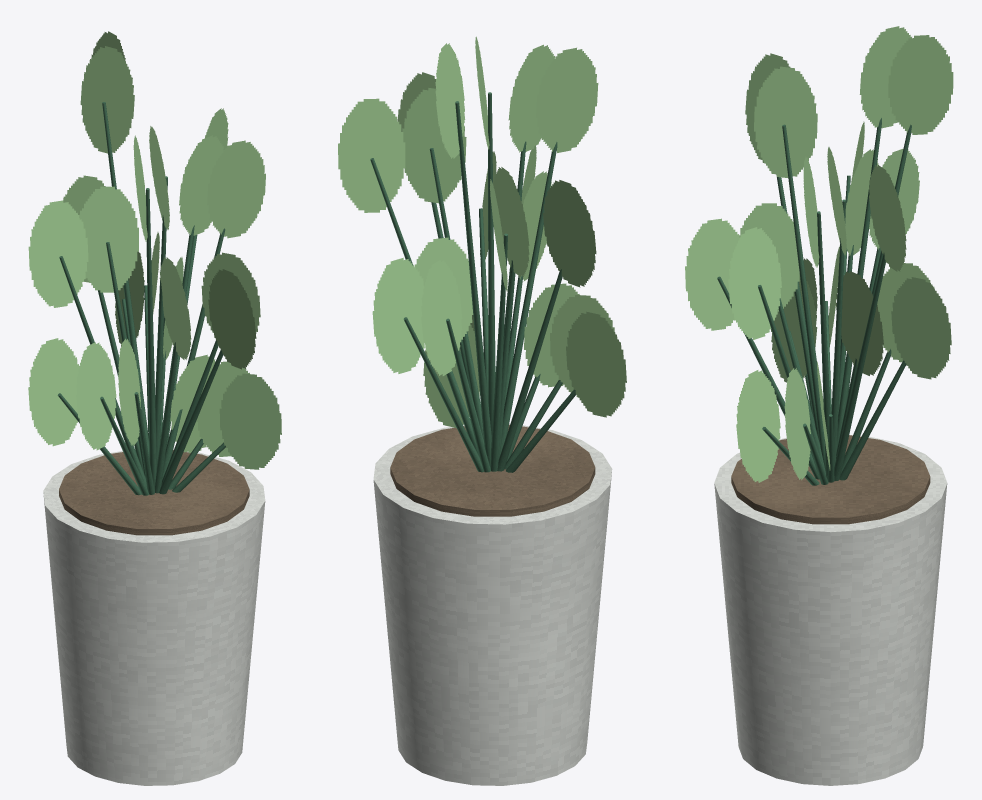
File: planter_tall01.glb
The picture shows the model from 3 angles, left to right: view 1: azimuth 30°, elevation 25°; view 2: azimuth 150°, elevation 25°; view 3: azimuth 270°, elevation 25°; orthographic projection. The views are drawn at different scales.
Visible parts, largest first — view 1: foliage, pot, stems, soil; view 2: pot, foliage, stems, soil; view 3: pot, foliage, stems, soil.
Part boxes in pixels (x1,y1,x2,y2): foliage: (28, 31, 281, 469); pot: (43, 449, 265, 785); stems: (57, 102, 225, 495); soil: (59, 450, 249, 535); pot: (373, 424, 612, 785); foliage: (338, 36, 626, 428); stems: (370, 92, 575, 472); soil: (390, 424, 595, 516); pot: (714, 435, 947, 785); foliage: (685, 26, 953, 482); stems: (717, 118, 911, 485); soil: (731, 435, 930, 524).
Size of the model in its own units: 0.6378 by 1.63 by 0.6118.
4 materials, 4 textured.
